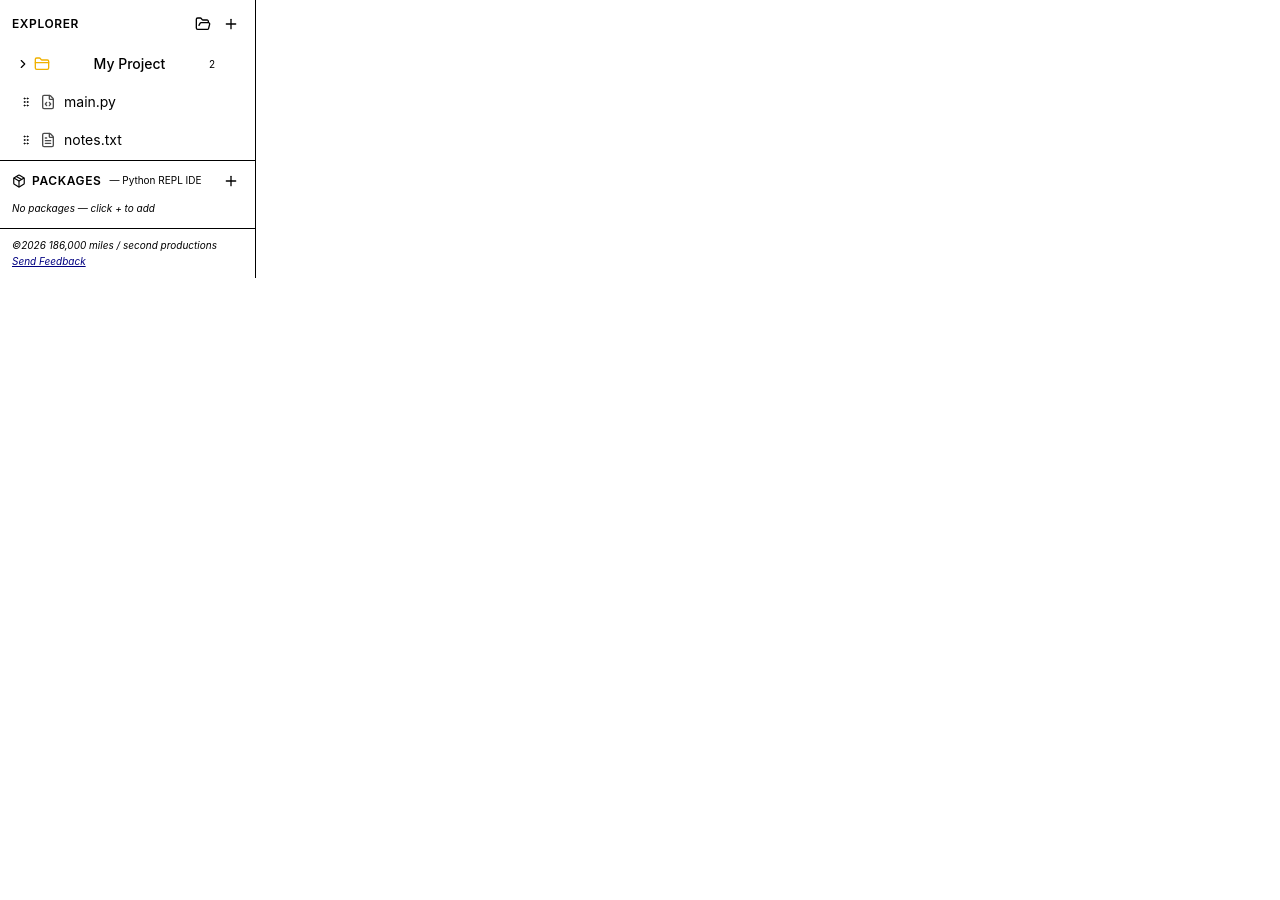
Scenario: ExplorerPane › Add button is disabled when file name is empty
Click the button named "Add new file". click: [231, 24]
box: [219,12,243,36]
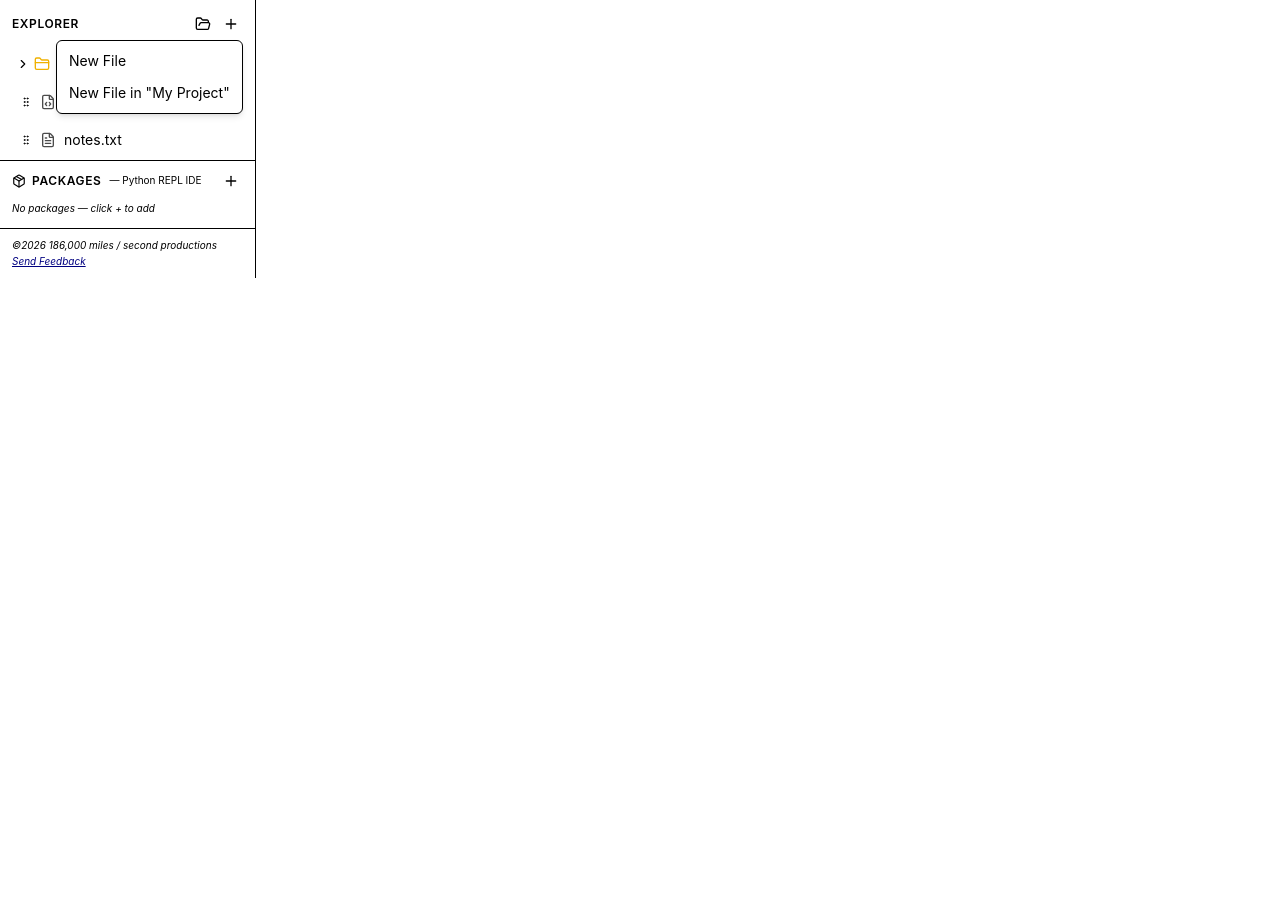
Click the menu item "New File". click: [98, 60]
box: [69,52,126,69]
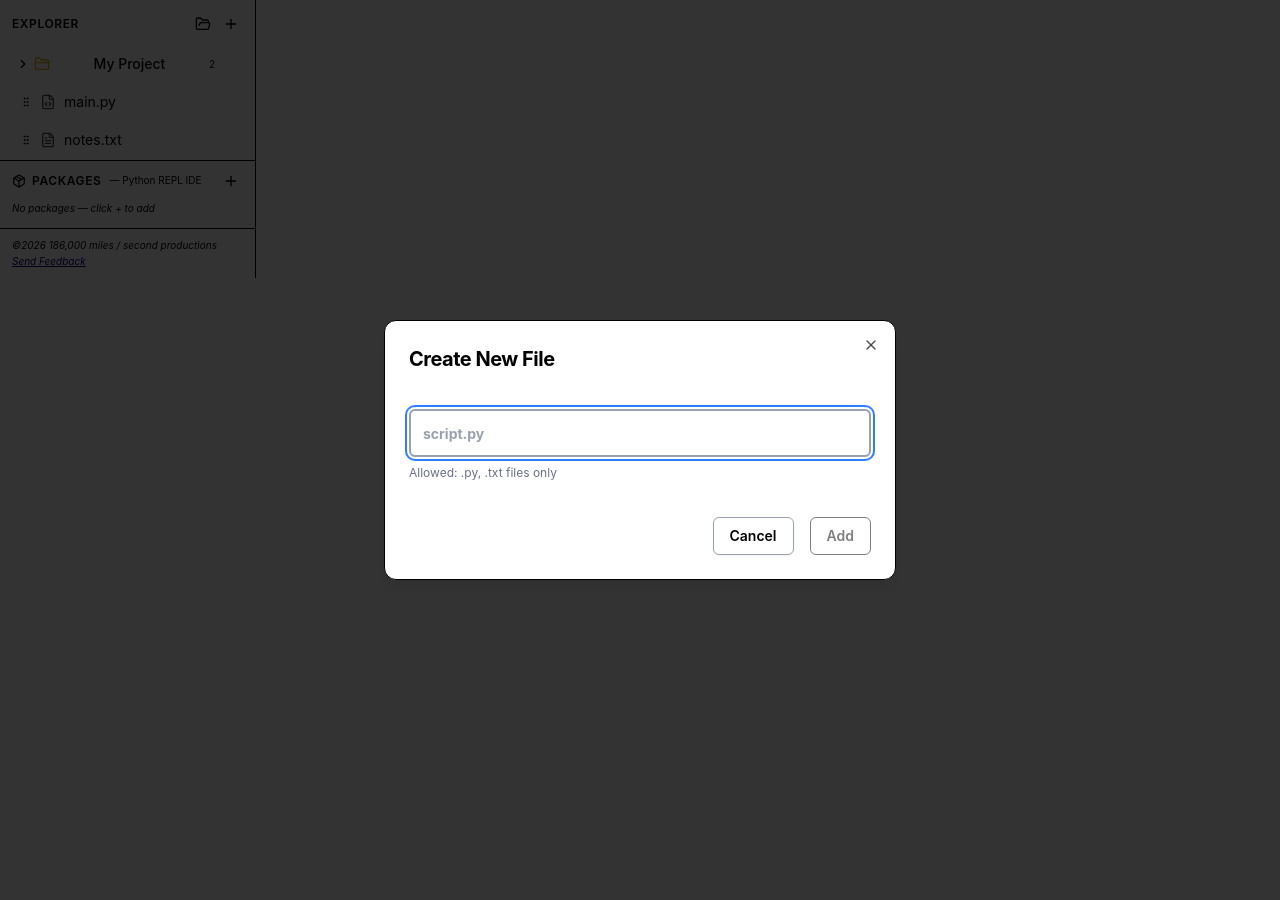
Expected: the button "Add" is disabled, [810,517,871,555]
